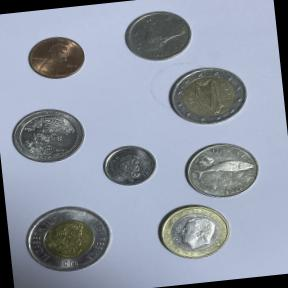1 Euro-B: (153, 199, 236, 266)
2 Euro-B: (161, 57, 254, 132)
Canada-10cent-B: (99, 140, 161, 191)
Canada-2Dollar-B: (18, 199, 118, 279)
Croatia-2Kune-B: (176, 136, 266, 204)
US-1cent-B: (24, 31, 90, 84)
US-25cent-B: (6, 102, 90, 168)
